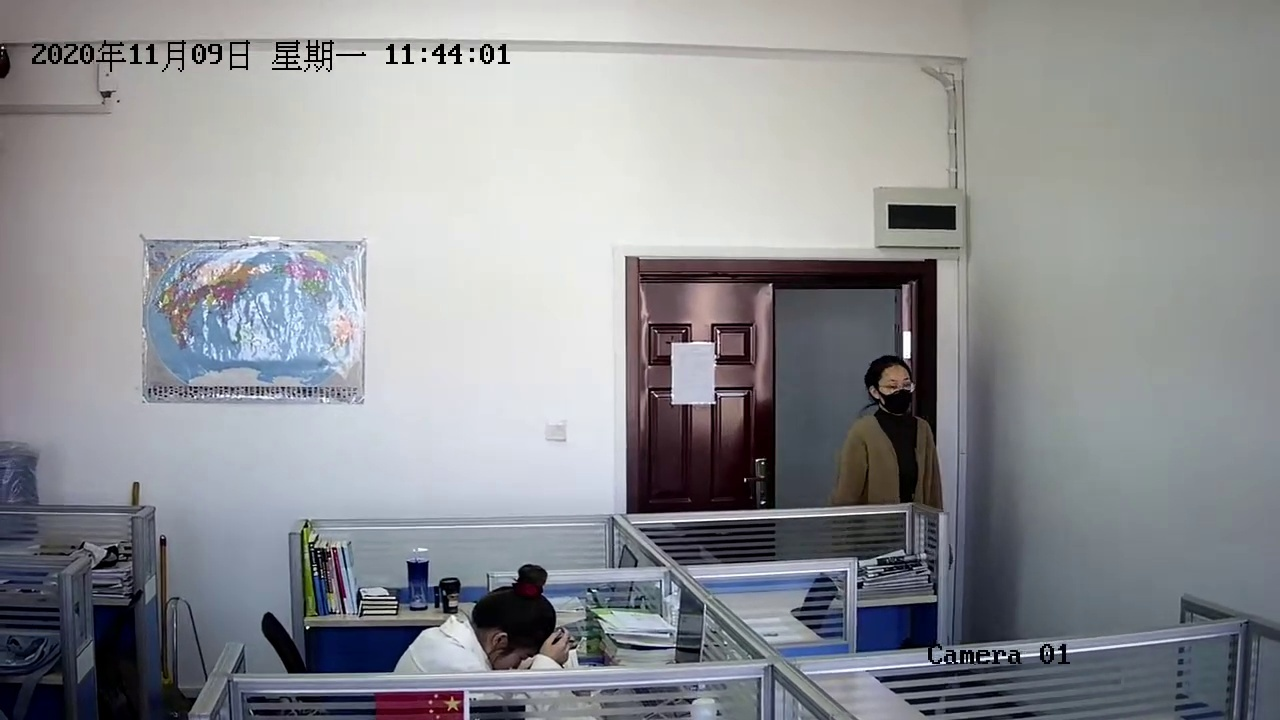mask: (865, 353, 918, 416)
